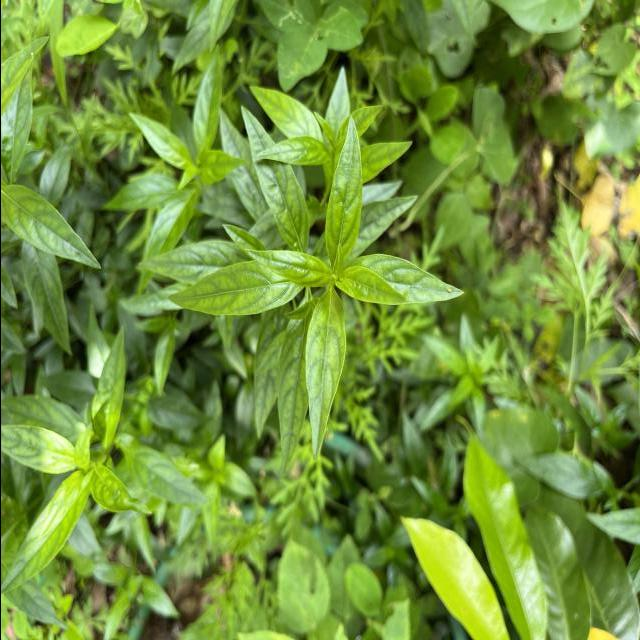Andrographis paniculata: (0, 472, 92, 598), (239, 104, 310, 252), (0, 183, 102, 270), (304, 284, 346, 464), (0, 34, 49, 180), (274, 294, 310, 483), (350, 248, 464, 302), (323, 113, 363, 262), (115, 444, 212, 505), (136, 241, 245, 286), (252, 312, 288, 442), (90, 324, 126, 454), (0, 422, 78, 475), (248, 84, 322, 139), (126, 111, 192, 169), (89, 461, 154, 519), (242, 250, 332, 288), (191, 44, 222, 150), (333, 265, 409, 306), (255, 135, 330, 167), (193, 148, 250, 186)
